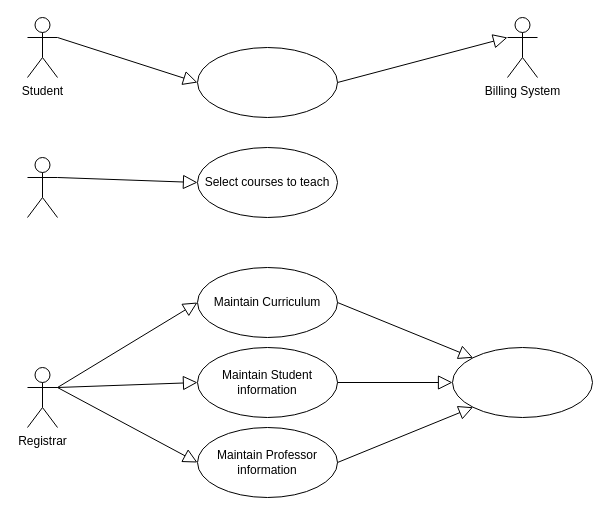
This 610x515 diagram has some shape labels left out. The box of each missing label's shape, as (x1, y1, x2, y2) in pixels:
Professor: (26, 156, 58, 218)
Register for courses: (196, 46, 338, 118)
Registrar Validation: (452, 346, 592, 418)
